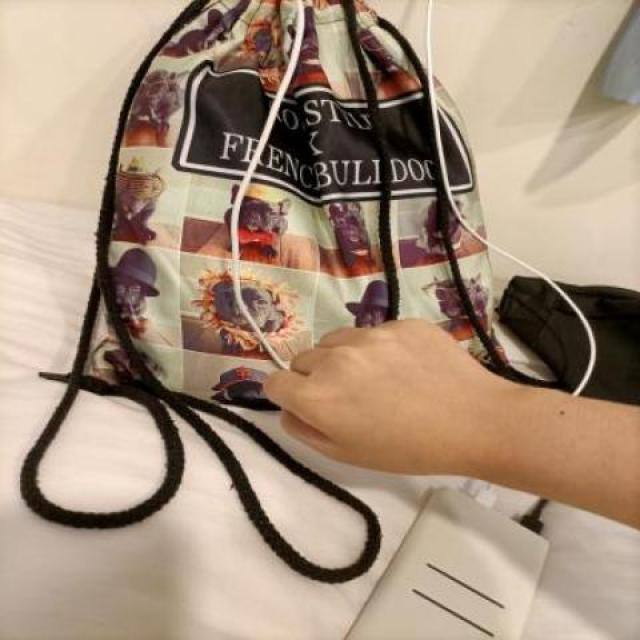Closed Hand: (255, 299, 509, 493)
